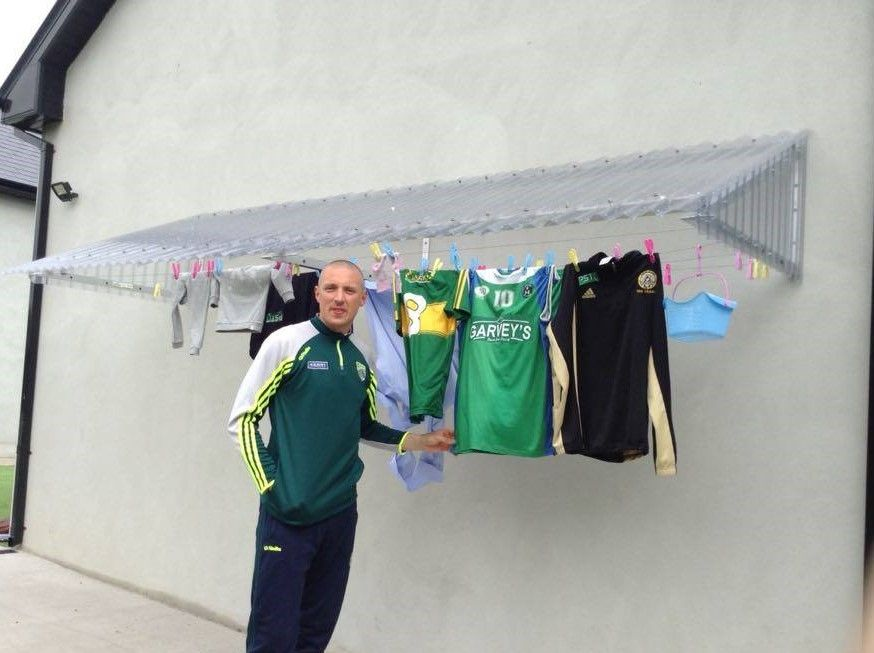player: (219, 243, 397, 627)
